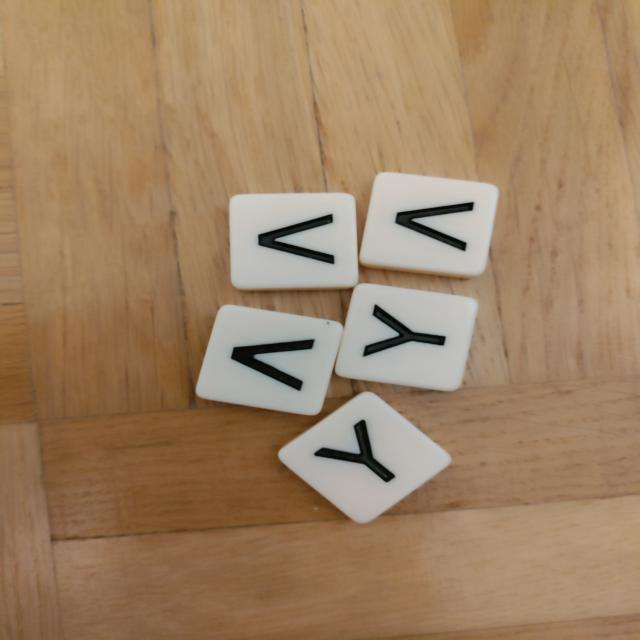v: (192, 303, 343, 418), (357, 169, 501, 280), (230, 194, 358, 291)
y: (271, 387, 458, 527), (331, 282, 481, 393)
